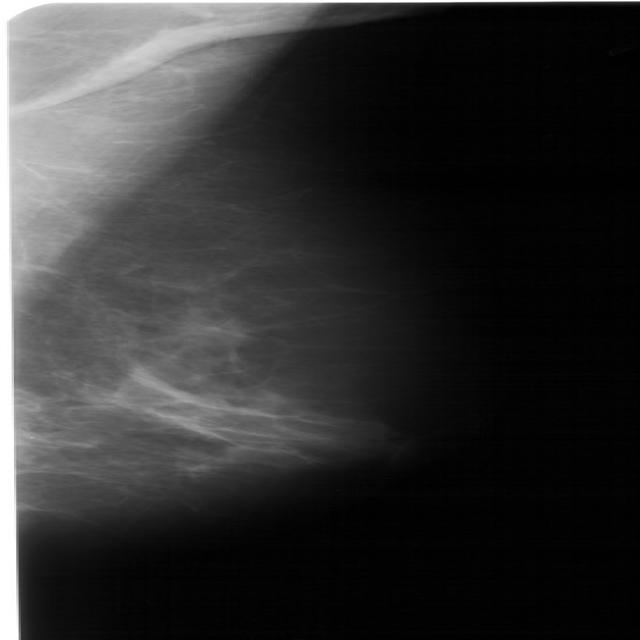tumour: (175, 313, 242, 343)
